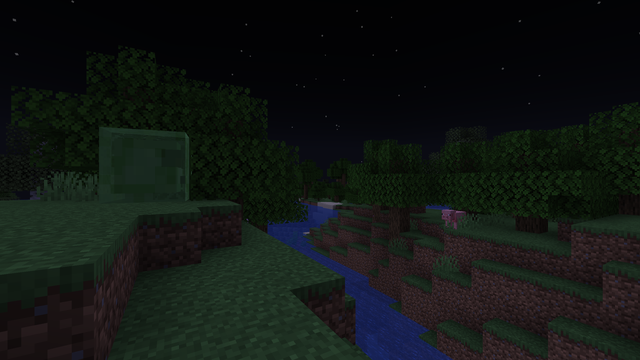cochons: (442, 210, 467, 229)
slimes: (101, 122, 191, 203)
